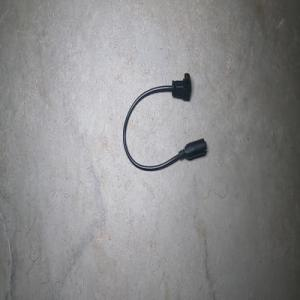Wire: (122, 72, 207, 171)
